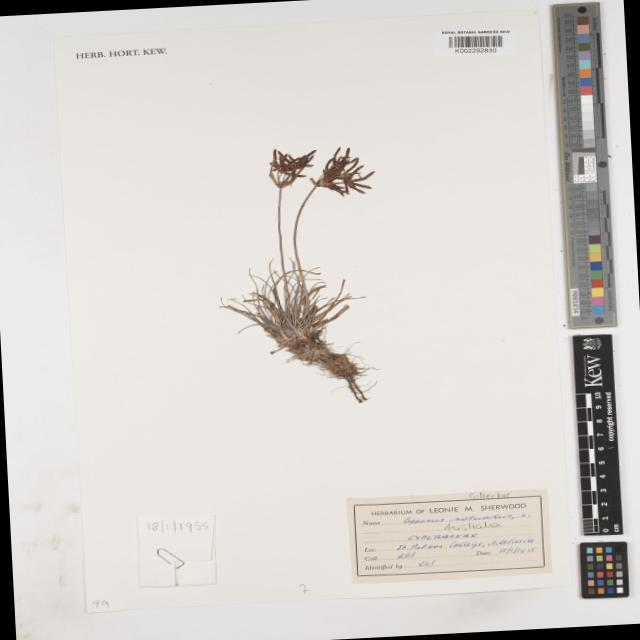cyperus: (260, 137, 382, 206)
